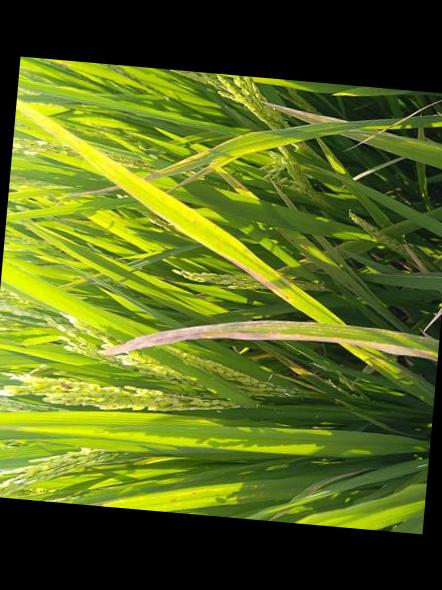Leaf Blight: (102, 320, 438, 363), (224, 254, 297, 307), (145, 150, 218, 178), (272, 106, 348, 123), (177, 173, 202, 186)
